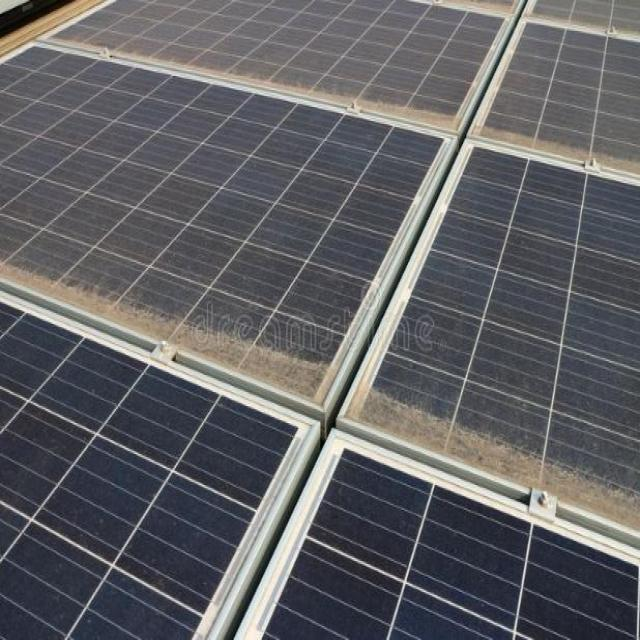faulty: (0, 45, 445, 398), (348, 138, 640, 535), (47, 0, 501, 127), (482, 14, 640, 166)
no faulty: (0, 308, 299, 640), (261, 454, 639, 640)
